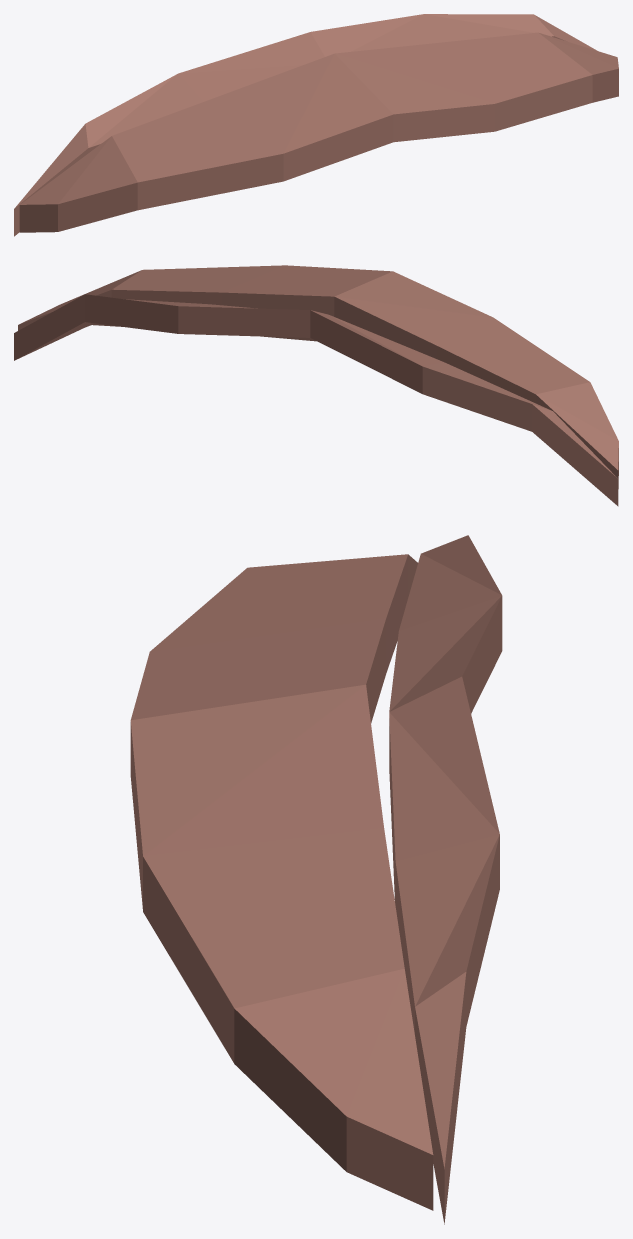
The model's file is Mouth 02.FBX.
3 views of the same model, one above another, from view 1: azimuth 30°, elevation 25°; view 2: azimuth 150°, elevation 25°; view 3: azimuth 270°, elevation 25° (orthographic). The views are drawn at different scales.
Parts seen in each view (by area): view 1: Mouth 02; view 2: Mouth 02; view 3: Mouth 02.
Boxes of the visible parts, <box> form: Mouth 02: <box>14,14,618,236</box>; Mouth 02: <box>14,265,618,506</box>; Mouth 02: <box>130,535,502,1224</box>.
Size of the model in its own units: 6.59 by 1.76 by 1.33.
1 material, 1 textured.
